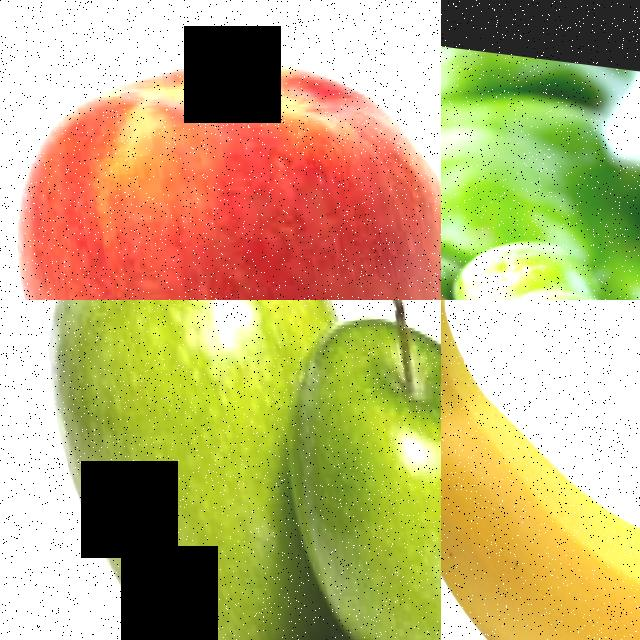apple: (0, 0, 441, 300), (0, 300, 328, 640), (258, 300, 441, 640)
banana: (441, 300, 640, 640)
bell pepper: (441, 174, 640, 300)
